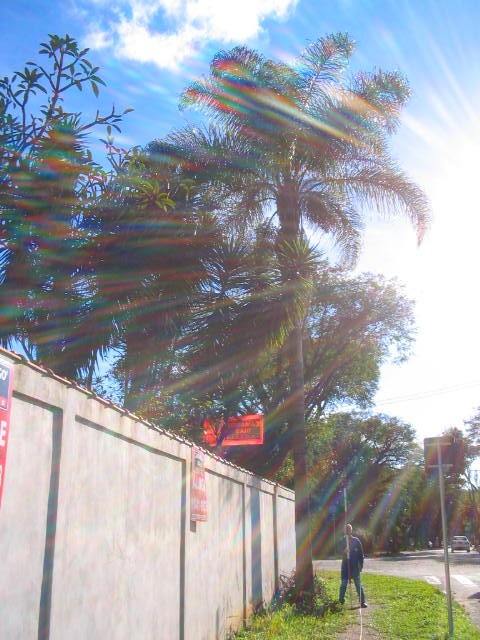crown: (135, 31, 431, 347)
stem: (270, 342, 333, 612)
stick: (336, 469, 356, 610)
tree: (132, 29, 433, 611)
